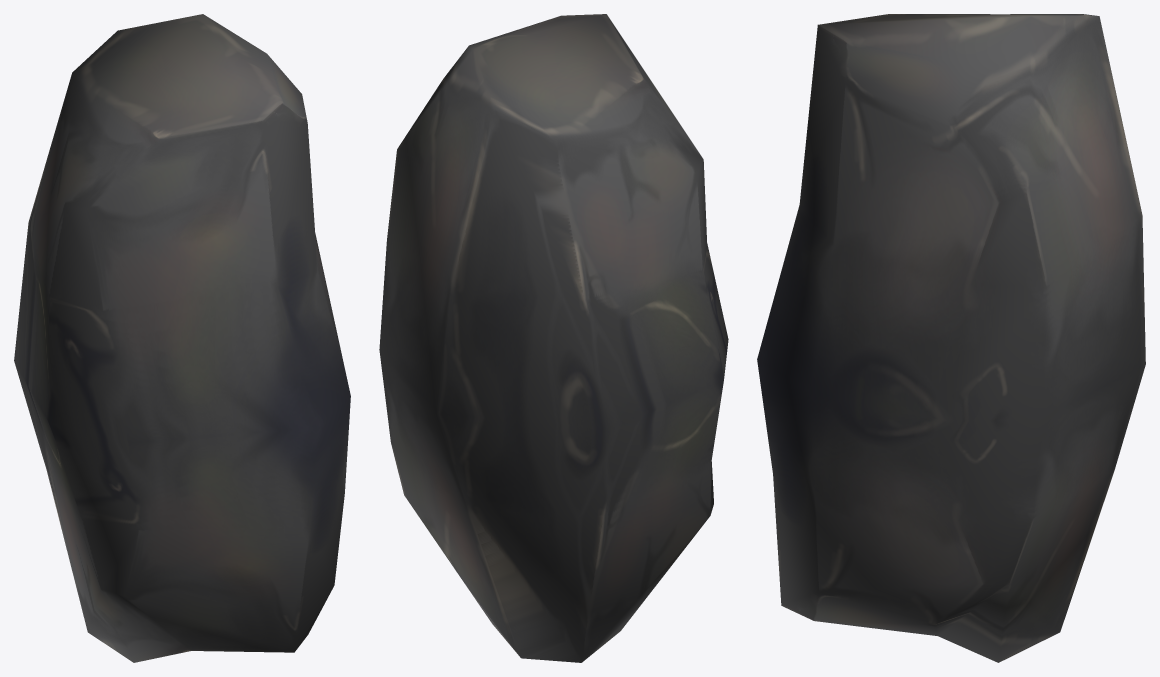
File: bloco_pedra.gltf
3 views of the same model, side by side, from view 1: azimuth 30°, elevation 25°; view 2: azimuth 150°, elevation 25°; view 3: azimuth 270°, elevation 25° (orthographic). The views are drawn at different scales.
Visible parts, largest first — view 1: pedra; view 2: pedra; view 3: pedra.
Part boxes in pixels (x1,y1,x2,y2): pedra: [14, 14, 350, 662]; pedra: [379, 14, 728, 662]; pedra: [757, 14, 1145, 662].
Bounding box in the file's own units: 1.46 × 2.75 × 1.49.
1 material, 1 textured.
